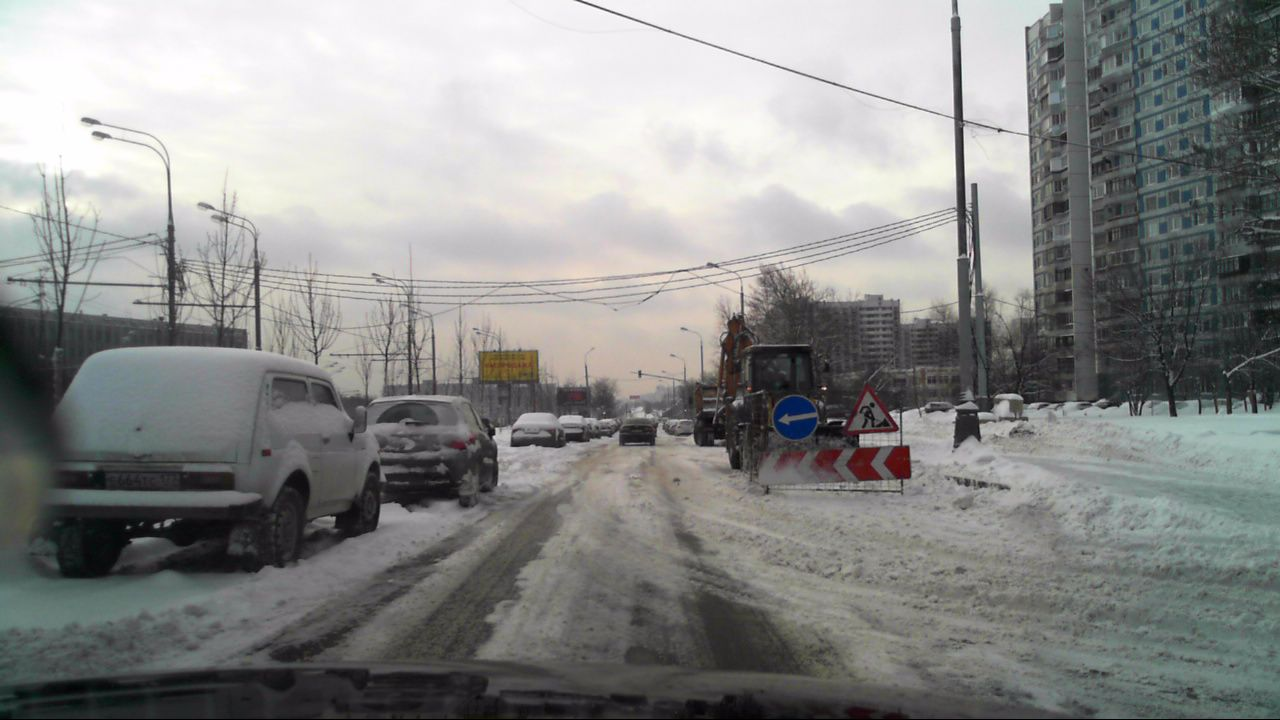Turn Left: (772, 395, 818, 441)
